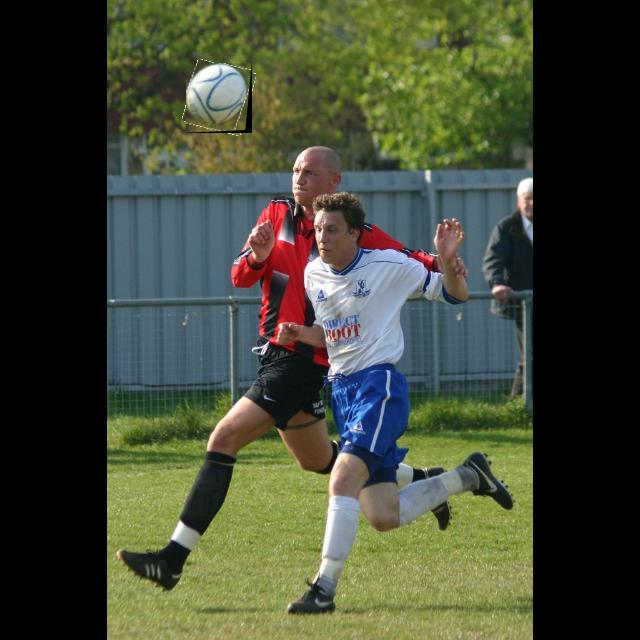Football: (186, 63, 252, 133)
